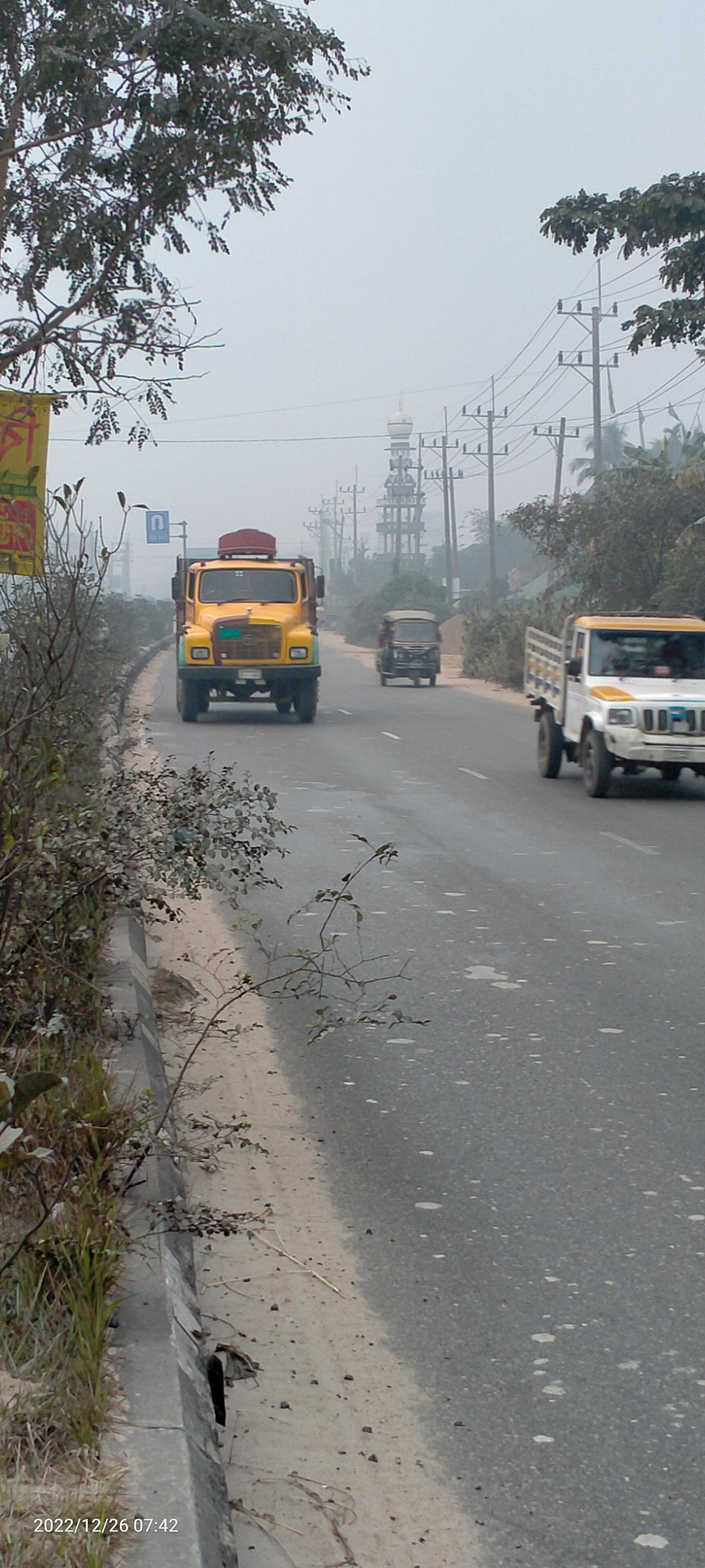Truck: (512, 591, 705, 797), (168, 523, 334, 738)
